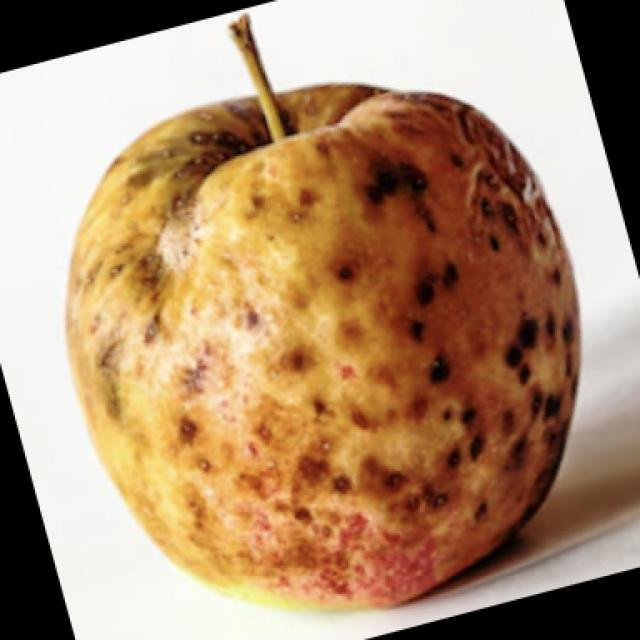Rotten: (65, 65, 590, 610)
